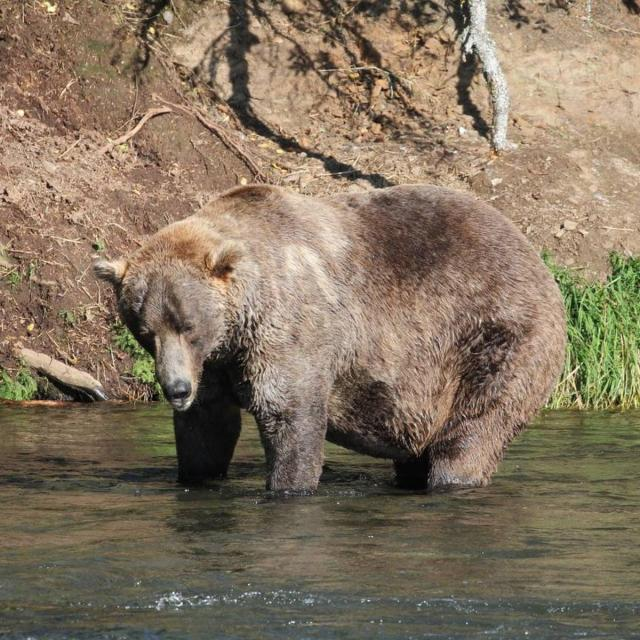Bear: (102, 184, 569, 500)
